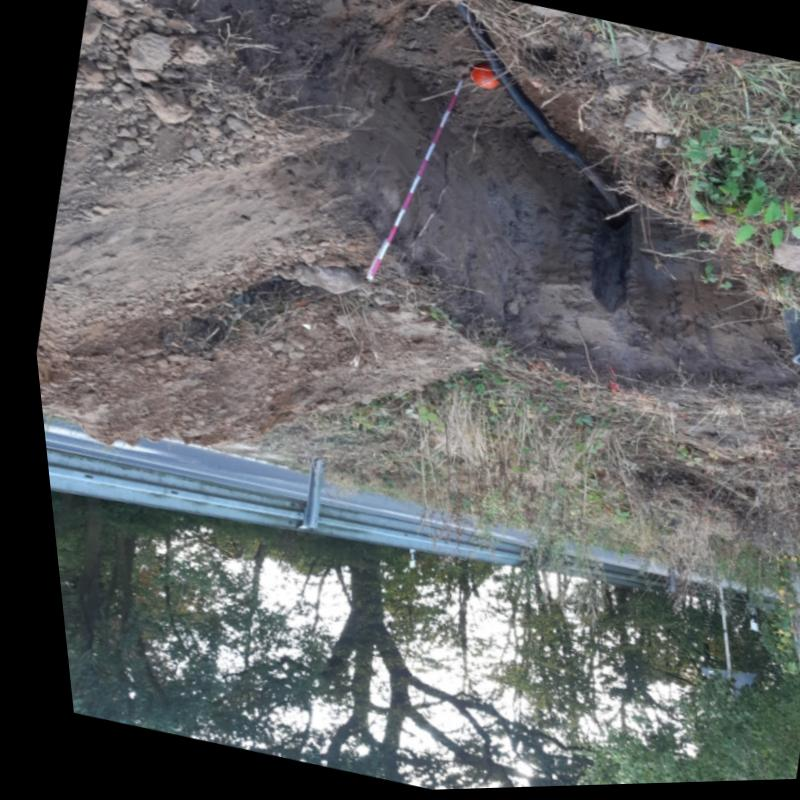Kugelmarker: (469, 66, 497, 91)
